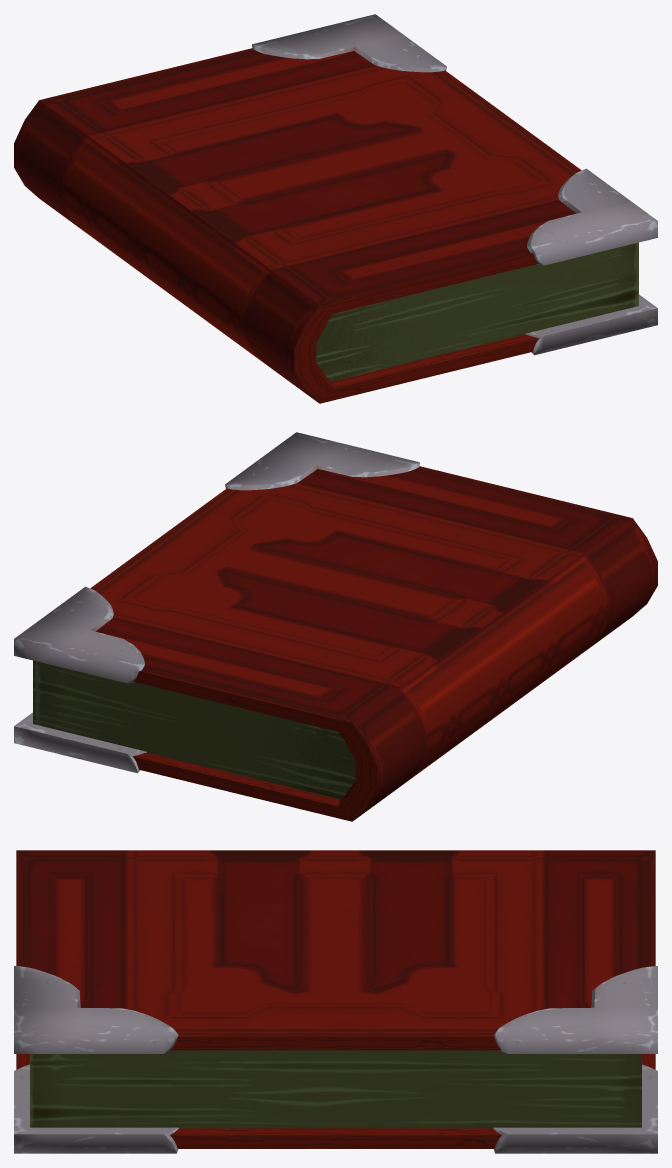
Rendered from book_7.glb.
3 views of the same model, one above another, from view 1: azimuth 30°, elevation 25°; view 2: azimuth 150°, elevation 25°; view 3: azimuth 270°, elevation 25° (orthographic). The views are drawn at different scales.
Visible parts, largest first — view 1: Book_7; view 2: Book_7; view 3: Book_7.
Part boxes in pixels (x1,y1,x2,y2): Book_7: [14, 14, 657, 403]; Book_7: [14, 432, 657, 821]; Book_7: [14, 850, 657, 1153].
Size of the model in its own units: 0.247 by 0.0679 by 0.3333.
Materials: 2 (2 with a texture image).
